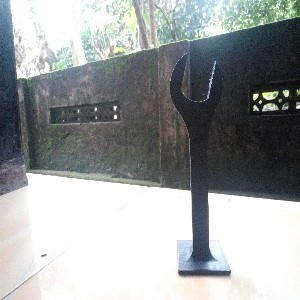spanner: (168, 51, 232, 278)
